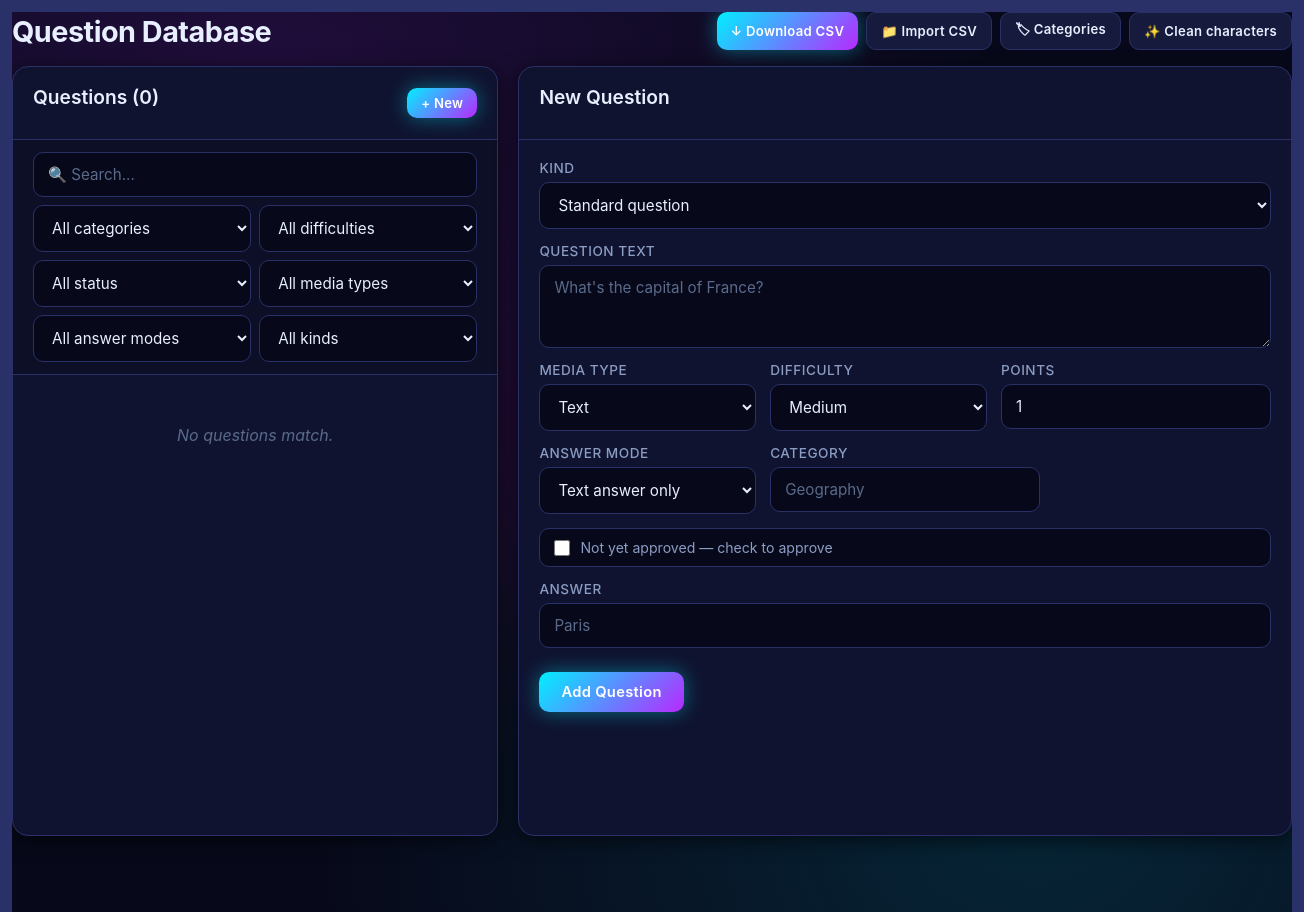
Test case: QuestionManager — MCQ answer selection › ticks the correct option and hides the free-text box for pure MCQ
This screenshot has width=1304, height=912.
Select "Multiple choice only" in the dropdown "Text answer only" at {"x": 648, "y": 490}, box [539,467,756,514]
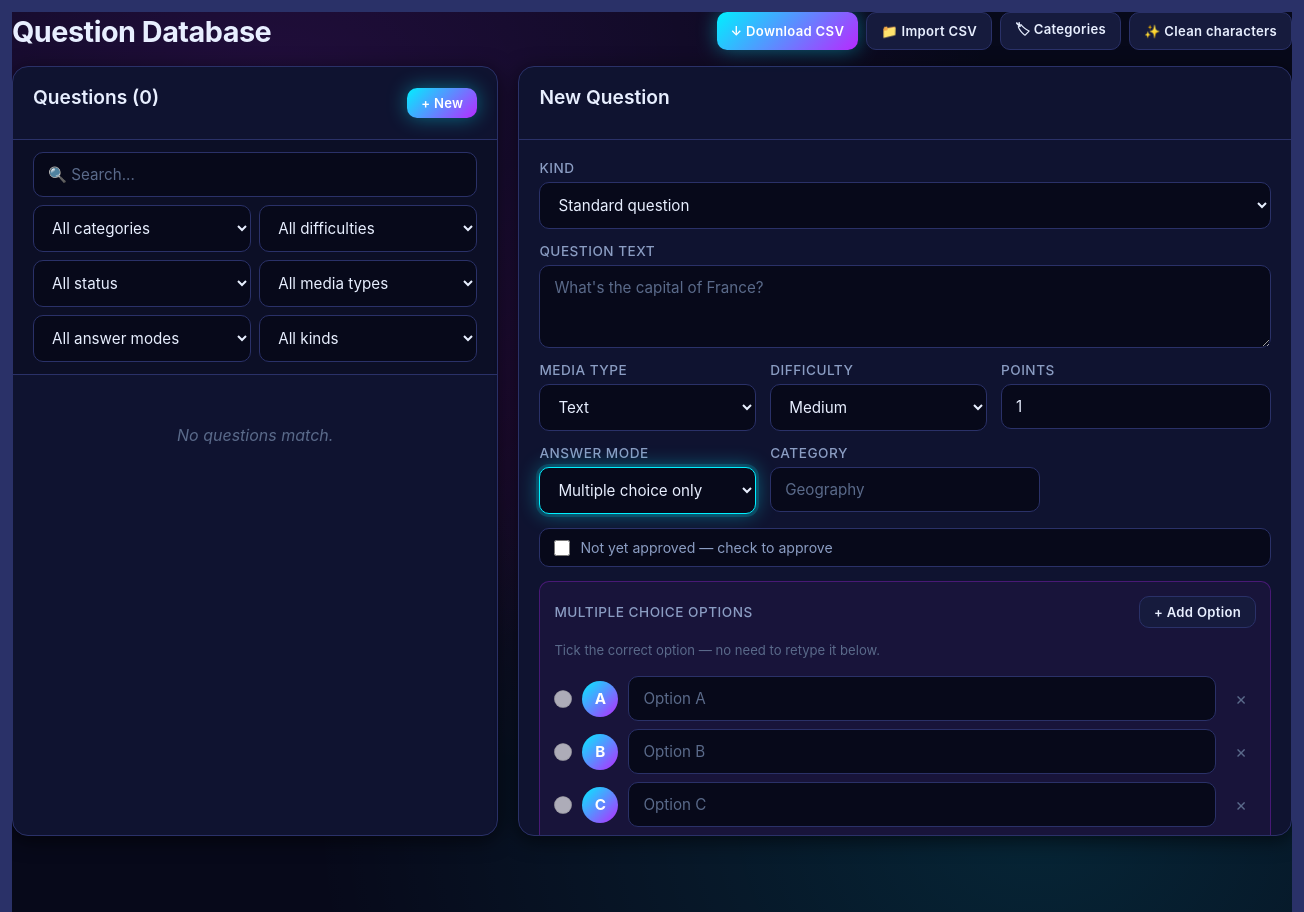
Type "Paris" into the field with placeholder "Option A" at {"x": 922, "y": 698}, box [628,676,1216,721]
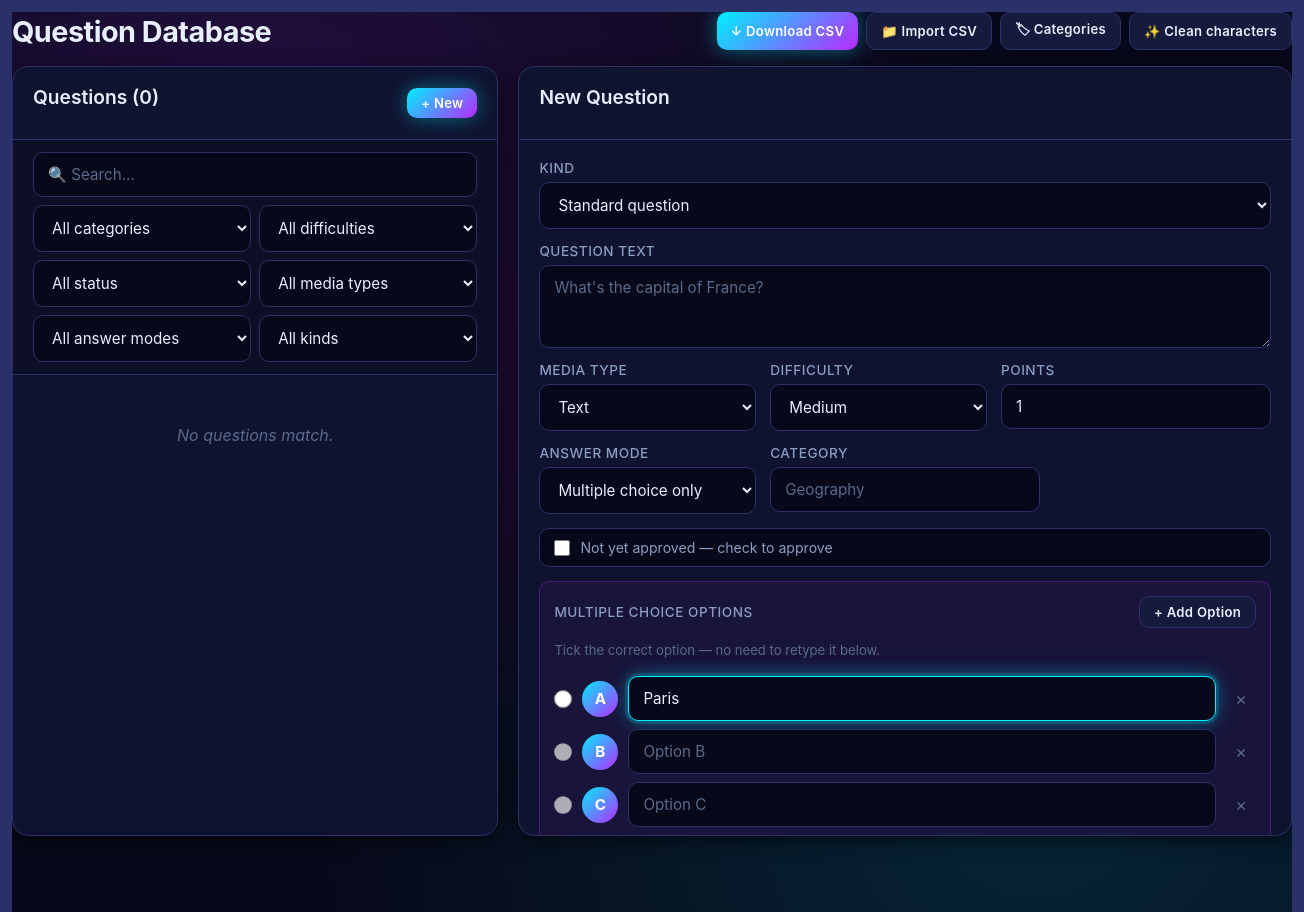
Type "London" into the field with placeholder "Option B" at {"x": 922, "y": 752}, box [628,729,1216,774]
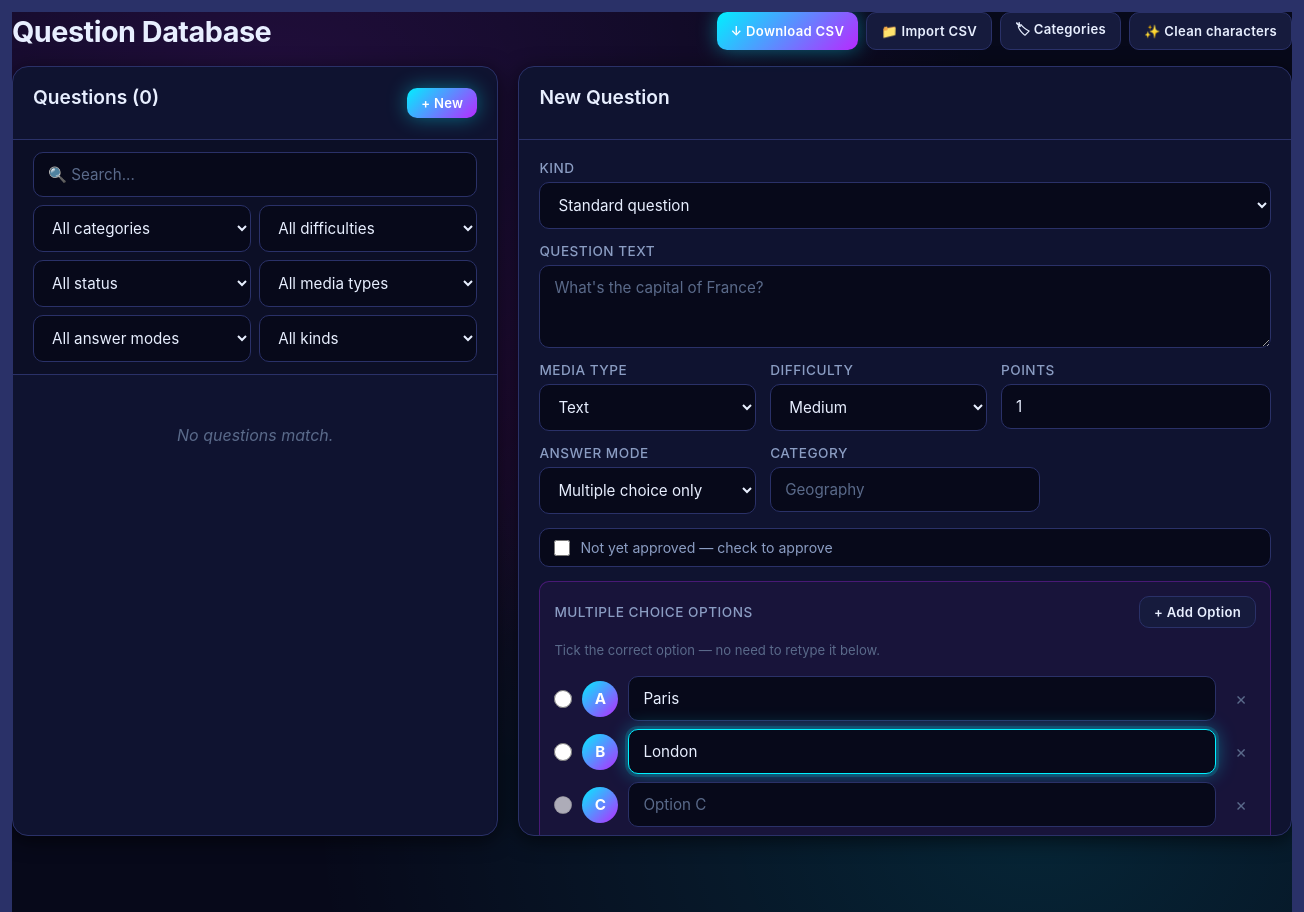
Click the radio button named "Mark A as the correct answer" at {"x": 563, "y": 698}, box [554,690,572,708]
(page scrolled)
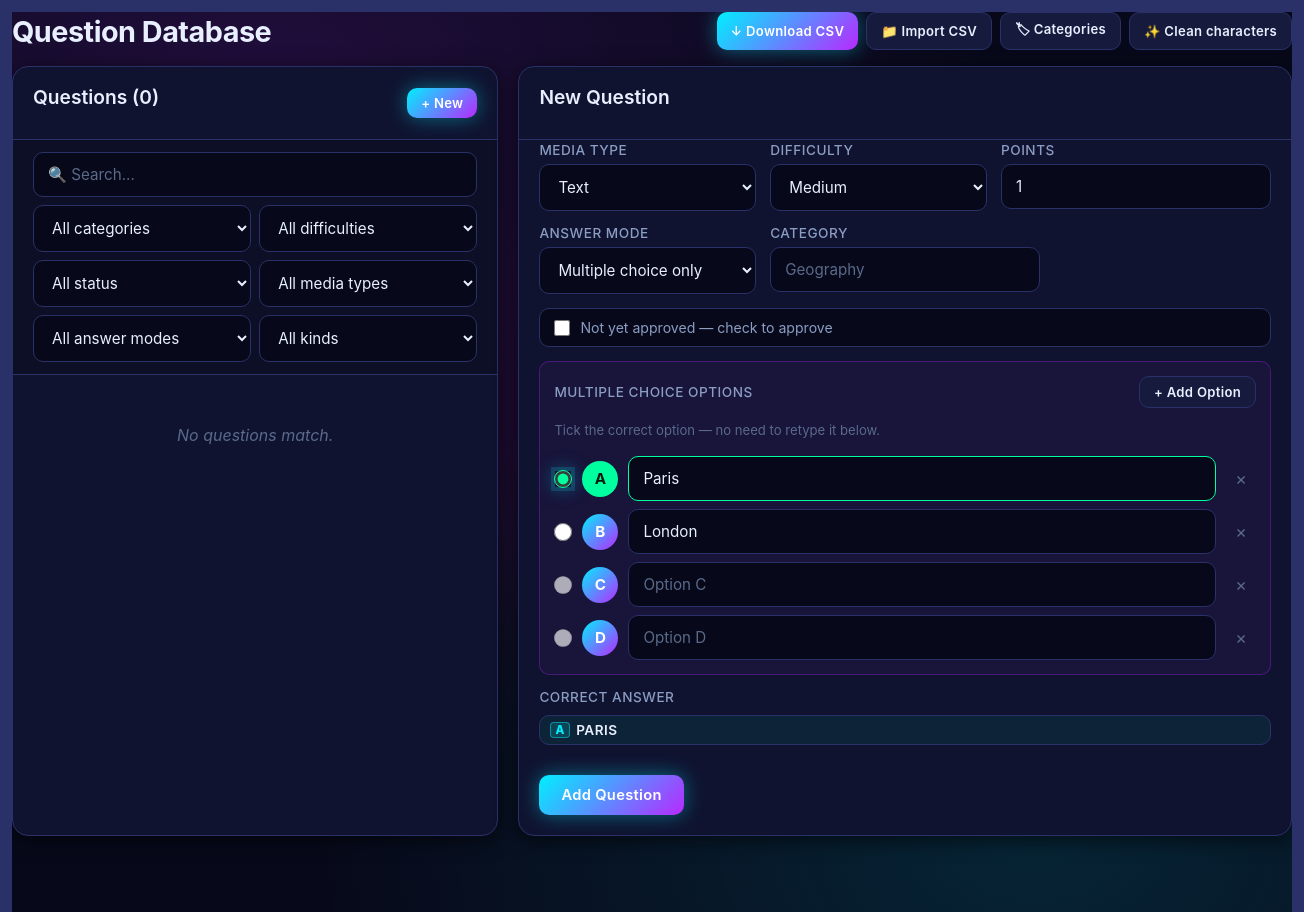
Now the text "A" next to "Paris" is shown, box [555,723,565,737]
